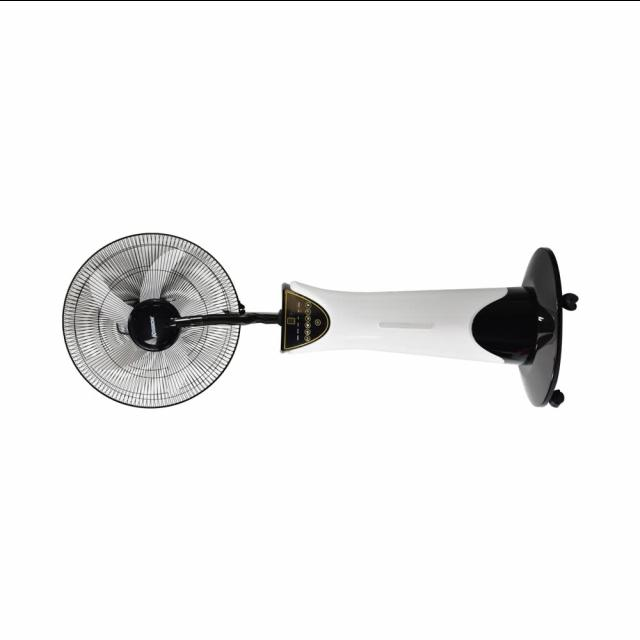fan: (56, 230, 582, 409)
